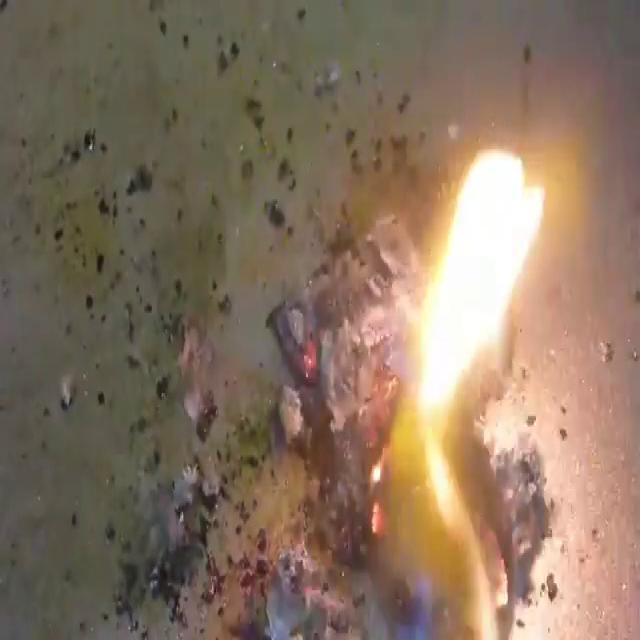Fire: (231, 82, 580, 640)
